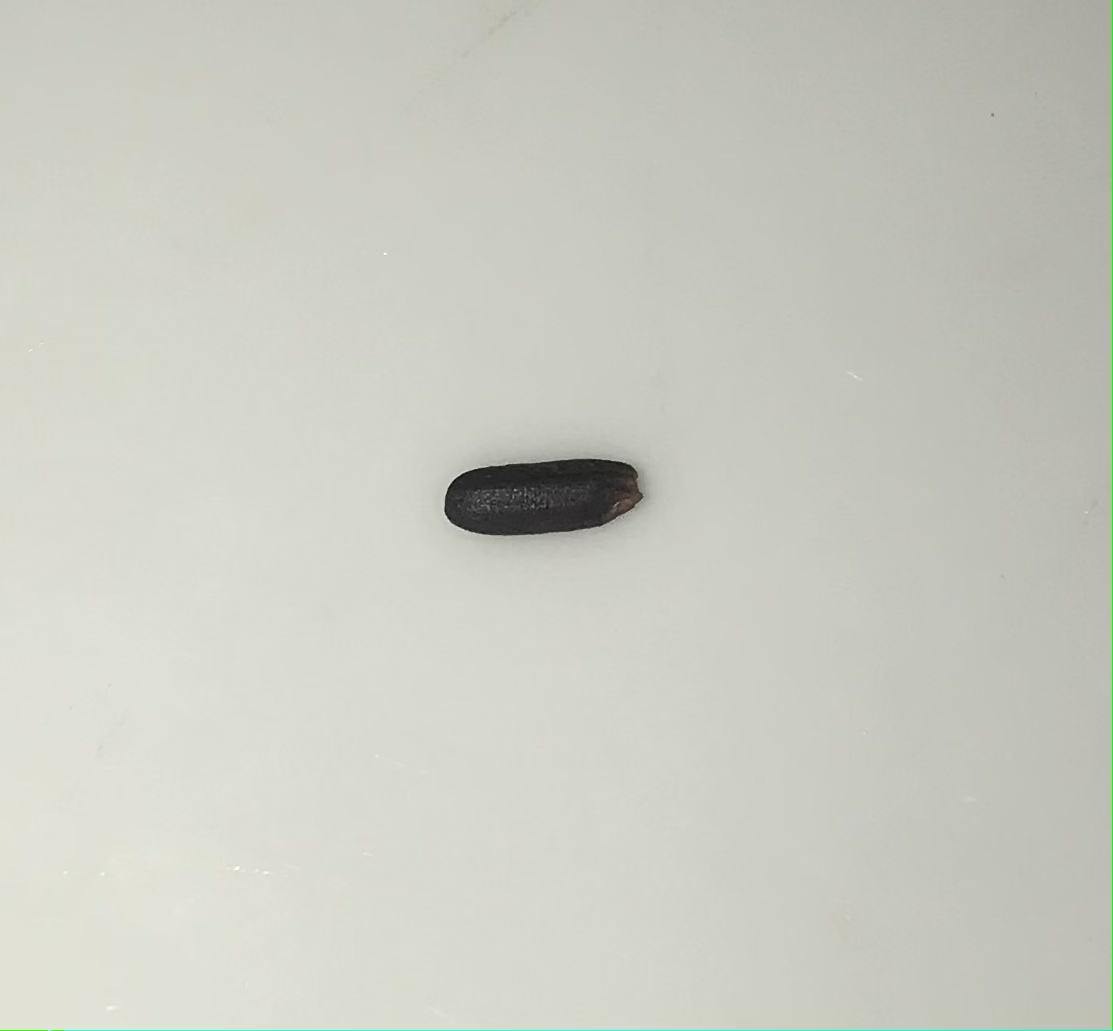Gao lut: (444, 453, 642, 540)
